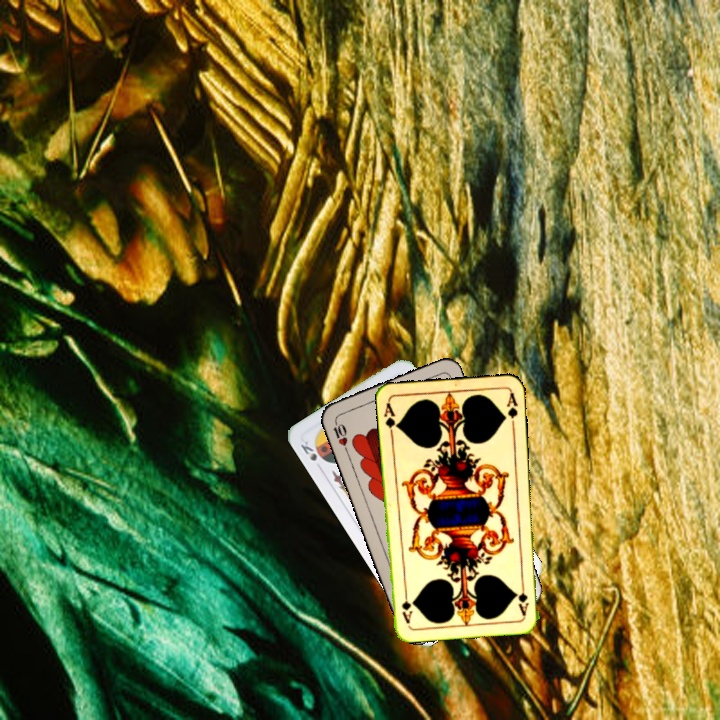GA: (380, 398, 401, 438), (514, 577, 531, 618)
H10: (329, 415, 351, 454)
SK: (296, 437, 325, 473)
